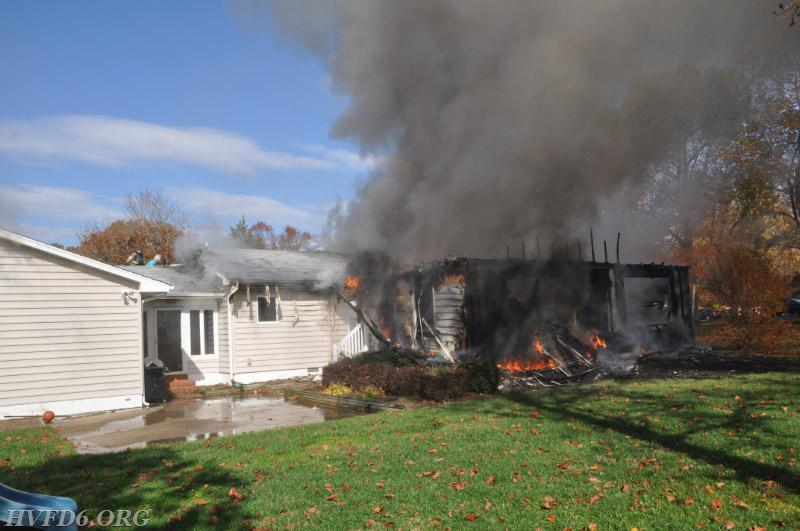fire: (495, 331, 559, 372), (585, 335, 607, 349), (344, 277, 361, 292)
smoke: (274, 0, 780, 261), (495, 263, 595, 334), (607, 273, 672, 371), (172, 224, 245, 295), (361, 261, 414, 347), (309, 268, 339, 292)
